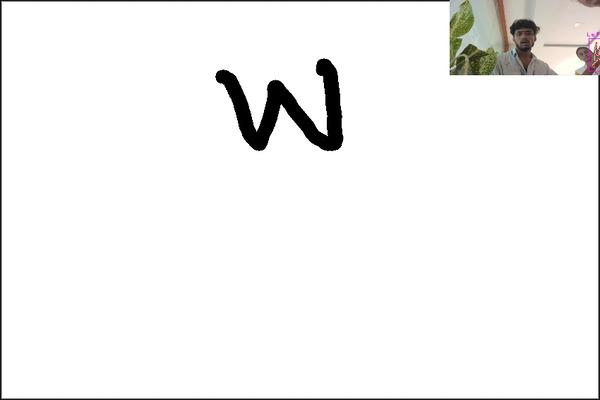w: (201, 47, 354, 172)
